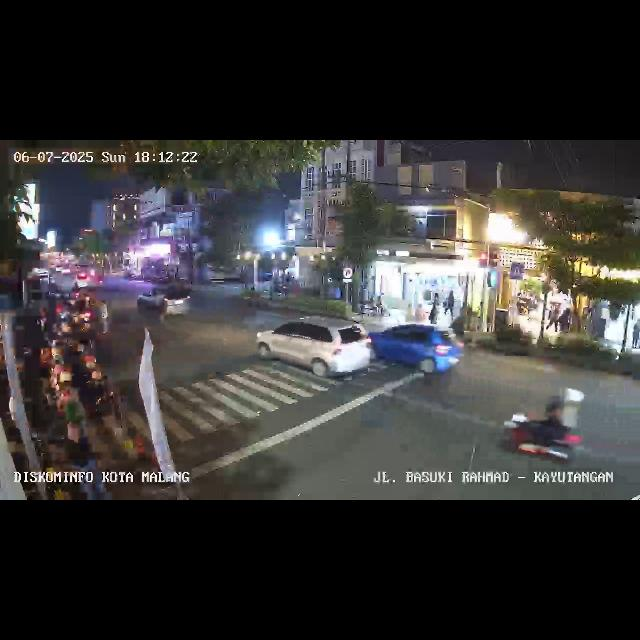car: (257, 315, 375, 385), (368, 324, 466, 378), (136, 282, 192, 320), (73, 270, 99, 288)
motorcycle: (499, 392, 589, 474), (70, 281, 82, 301)
person: (100, 301, 112, 337), (560, 306, 572, 334), (445, 291, 455, 321), (549, 304, 559, 334), (632, 316, 640, 349), (428, 304, 439, 324), (434, 292, 441, 304)
